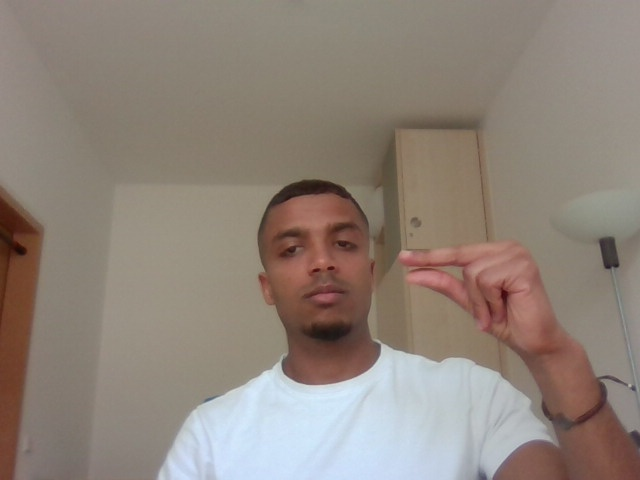no: (396, 226, 586, 367)
